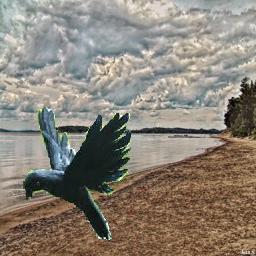Crow: (23, 102, 131, 240)
